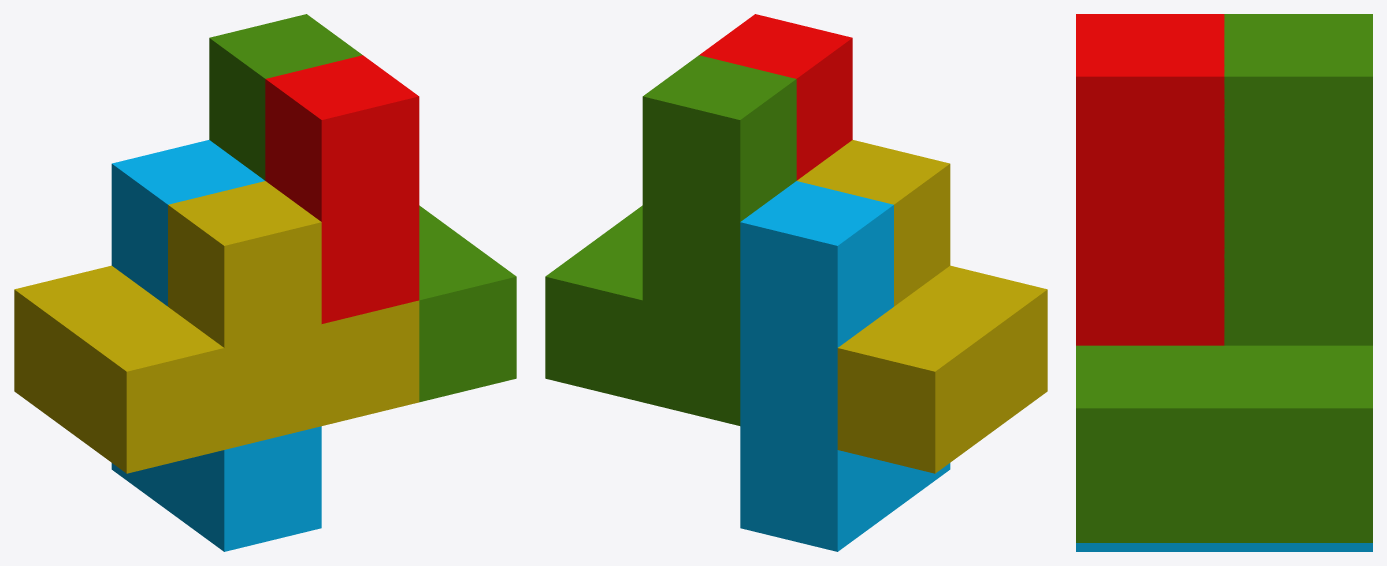
The picture shows the model from 3 angles, left to right: view 1: azimuth 30°, elevation 25°; view 2: azimuth 150°, elevation 25°; view 3: azimuth 270°, elevation 25°; orthographic projection. The views are drawn at different scales.
Parts seen in each view (by area): view 1: mergedBlocks(Clone); view 2: mergedBlocks(Clone); view 3: mergedBlocks(Clone).
Boxes of the visible parts, left/top/right/bottom form: mergedBlocks(Clone): left=14, top=14, right=516, bottom=551; mergedBlocks(Clone): left=545, top=14, right=1047, bottom=551; mergedBlocks(Clone): left=1076, top=14, right=1372, bottom=551.
Bounding box in the file's own units: 4 × 4 × 2.
4 materials, 4 textured.
